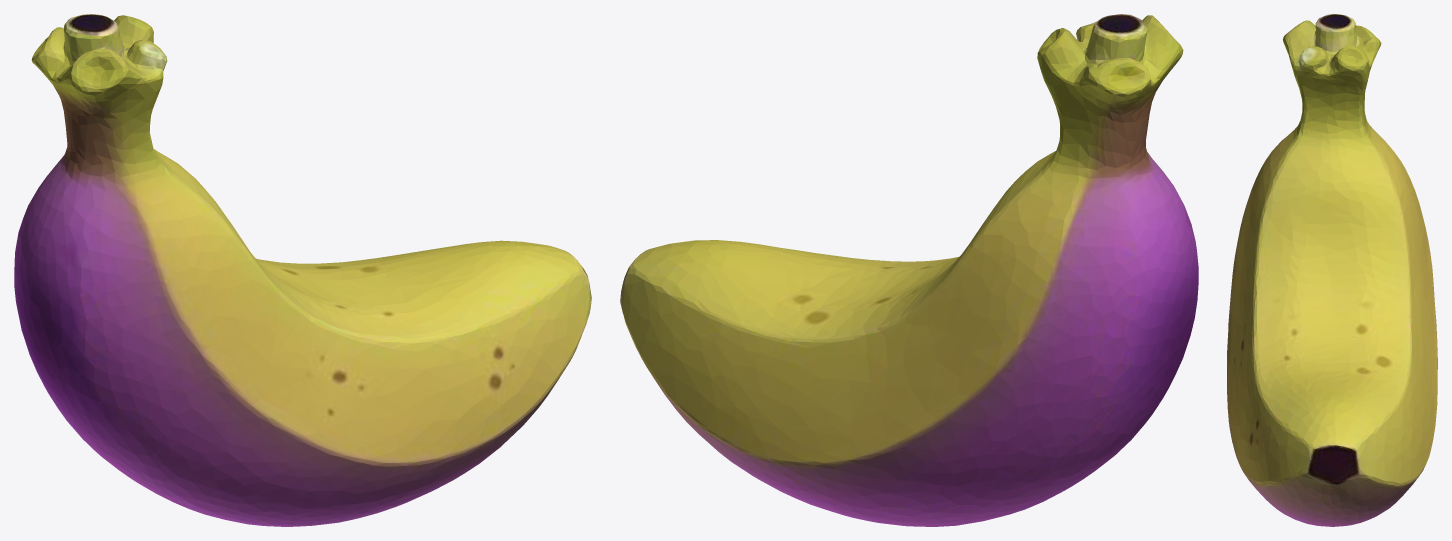
Rendered from banana.glb.
3 views of the same model, side by side, from view 1: azimuth 30°, elevation 25°; view 2: azimuth 150°, elevation 25°; view 3: azimuth 270°, elevation 25° (orthographic). The views are drawn at different scales.
Visible parts, largest first — view 1: tmpnd_iqm2n.ply; view 2: tmpnd_iqm2n.ply; view 3: tmpnd_iqm2n.ply.
Boxes of the visible parts, bbox=[...] form: tmpnd_iqm2n.ply: bbox=[14, 14, 591, 526]; tmpnd_iqm2n.ply: bbox=[620, 14, 1198, 526]; tmpnd_iqm2n.ply: bbox=[1227, 14, 1437, 526].
Size of the model in its own units: 1.99 by 1.88 by 0.9054.
1 material, 1 textured.
